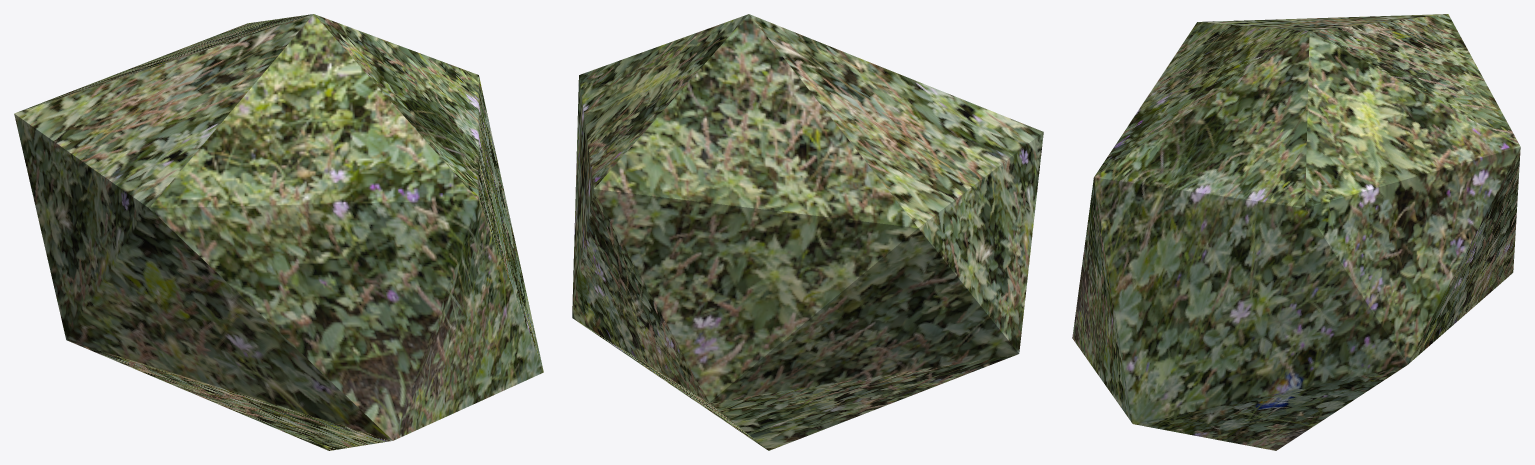
Rendered from topek_brylka.dae.
The picture shows the model from 3 angles, left to right: view 1: azimuth 30°, elevation 25°; view 2: azimuth 150°, elevation 25°; view 3: azimuth 270°, elevation 25°; orthographic projection. The views are drawn at different scales.
Parts seen in each view (by area): view 1: Icosphere; view 2: Icosphere; view 3: Icosphere.
Boxes of the visible parts, left/top/right/bottom form: Icosphere: left=14, top=14, right=543, bottom=450; Icosphere: left=572, top=14, right=1043, bottom=450; Icosphere: left=1072, top=14, right=1520, bottom=450.
Size of the model in its own units: 2.37 by 2.24 by 2.32.
Materials: 1 (1 with a texture image).
